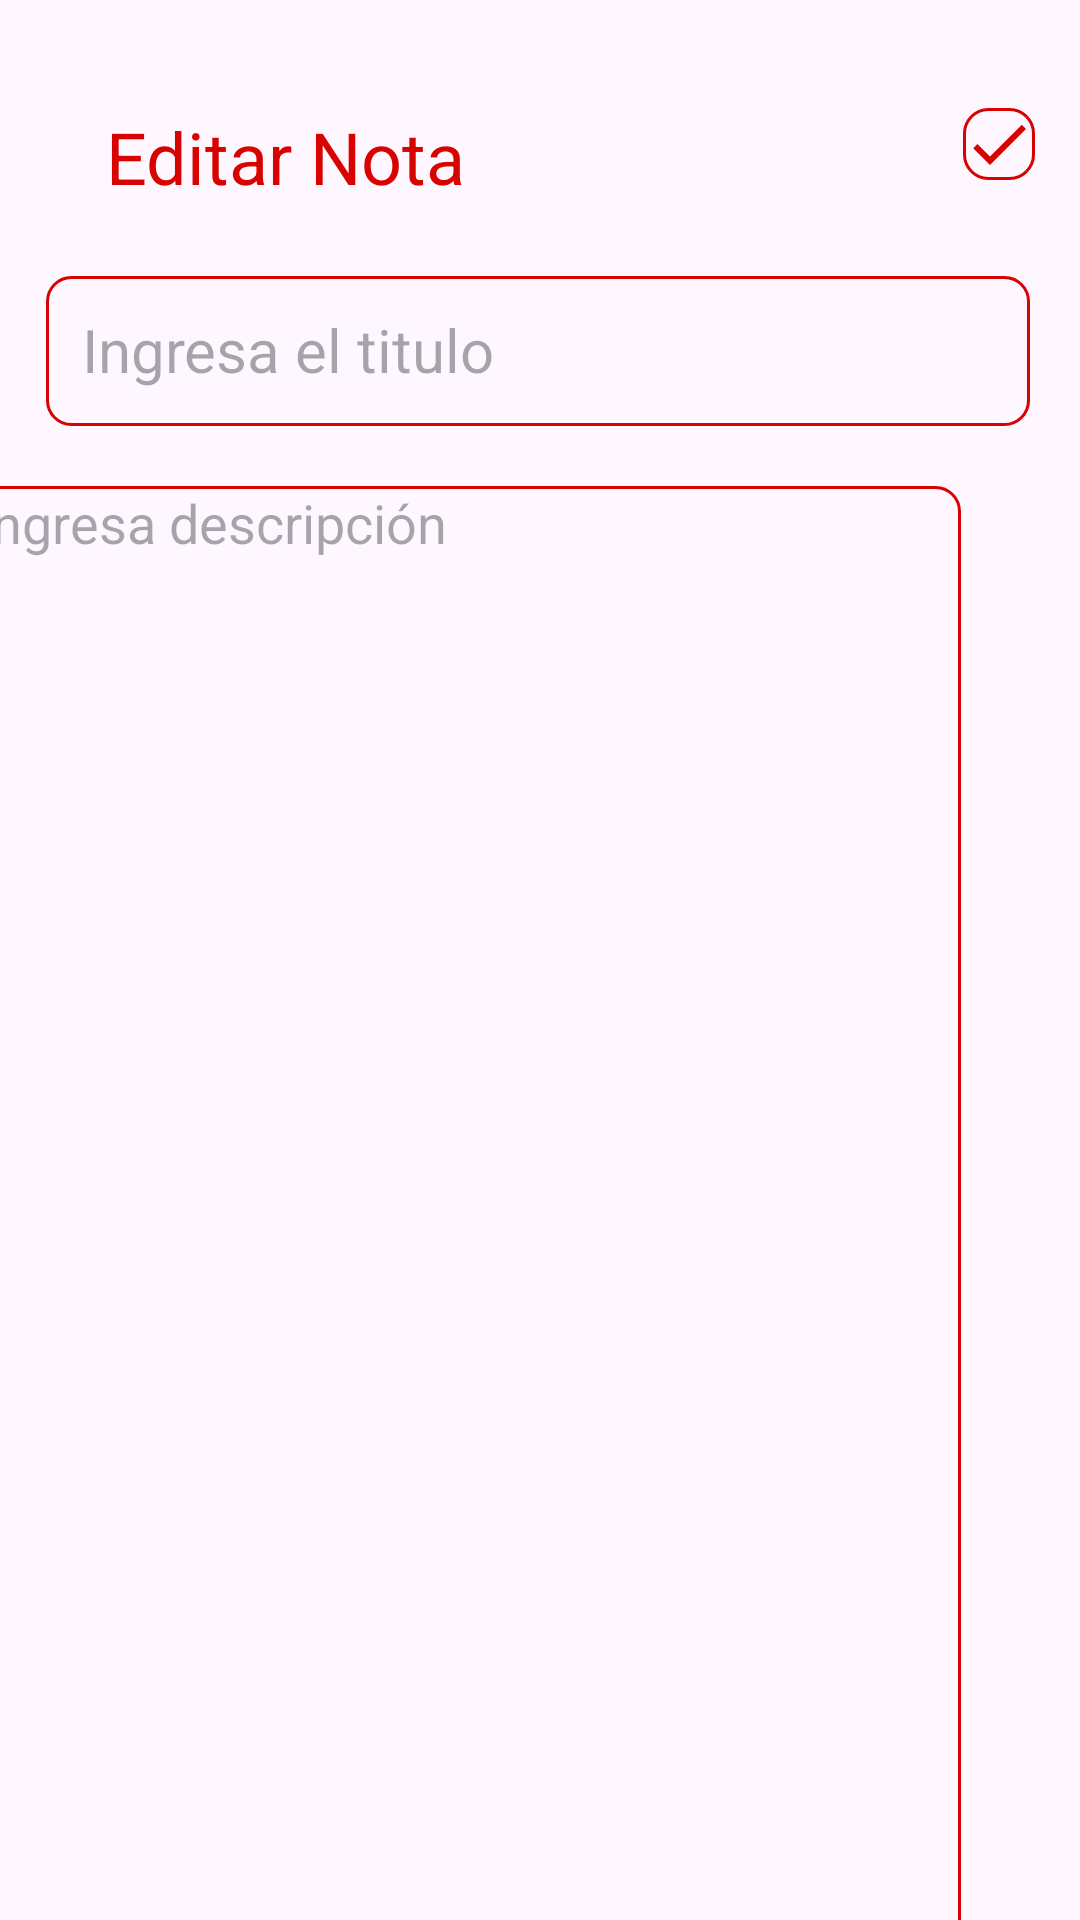

Where to tap for icons on this 1080x1920 app screen, as (x=x, y=y):
Guardar Nota: (x=999, y=144)
